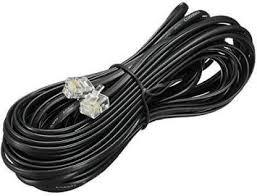cable: (0, 3, 256, 193)
